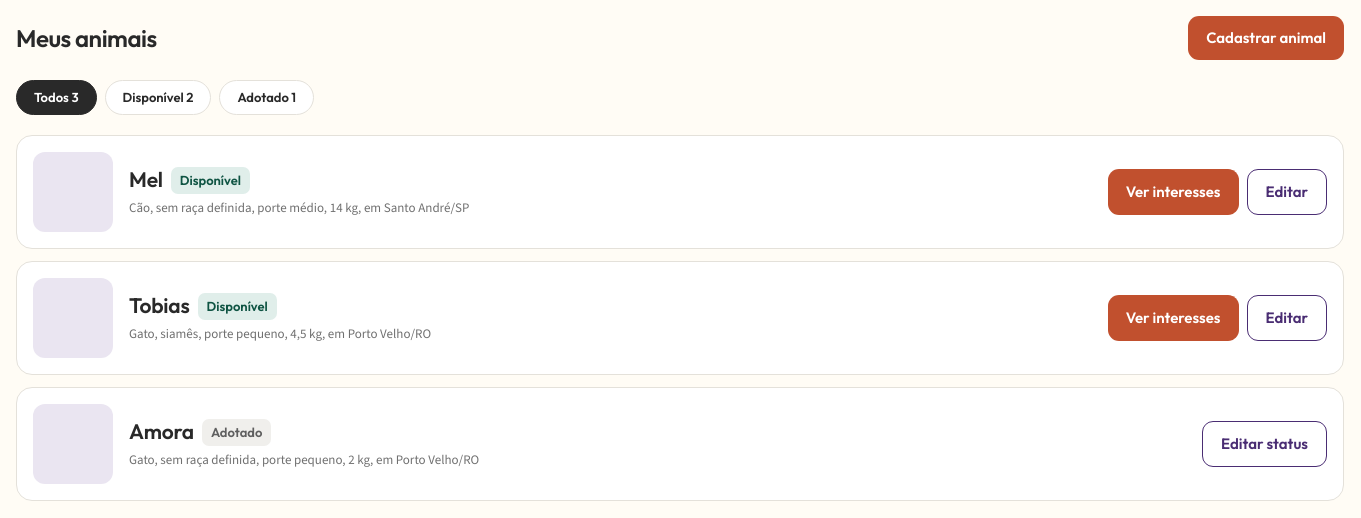
o filtro mostra só os adotados
Expected: the heading "Mel" is shown, top-left (129, 166), bottom-right (163, 194)
Click the button "Adotado 1".
click(267, 97)  # box top-left (219, 80), bottom-right (314, 115)
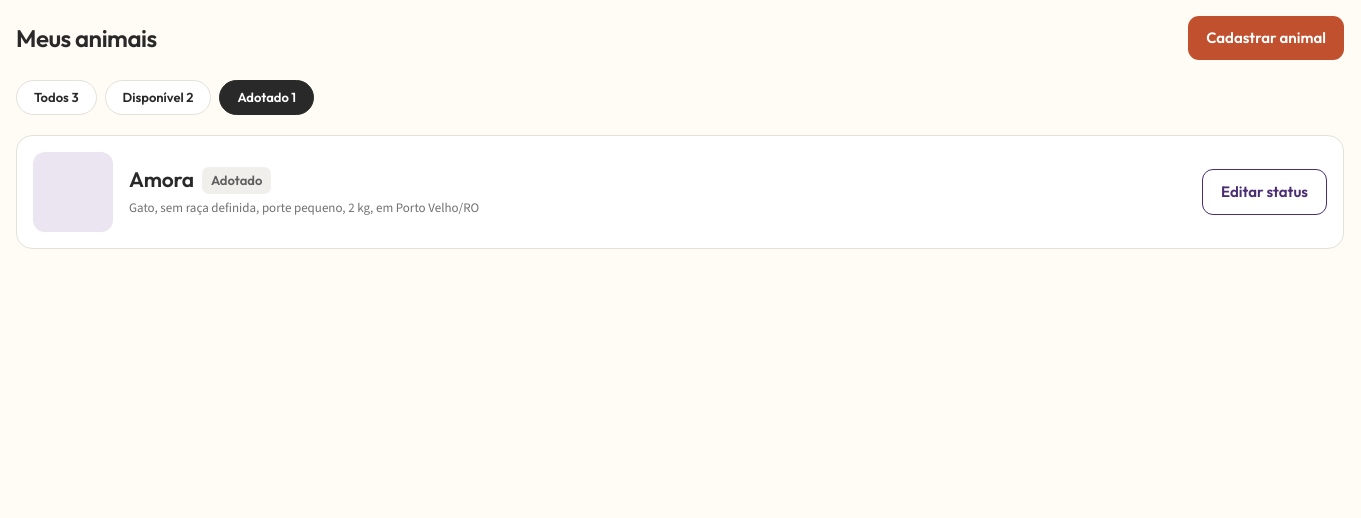
Expected: the text "Adotado" is shown, top-left (202, 167), bottom-right (271, 194)
Now the number of list items is 1, box top-left (16, 135), bottom-right (1344, 249)
